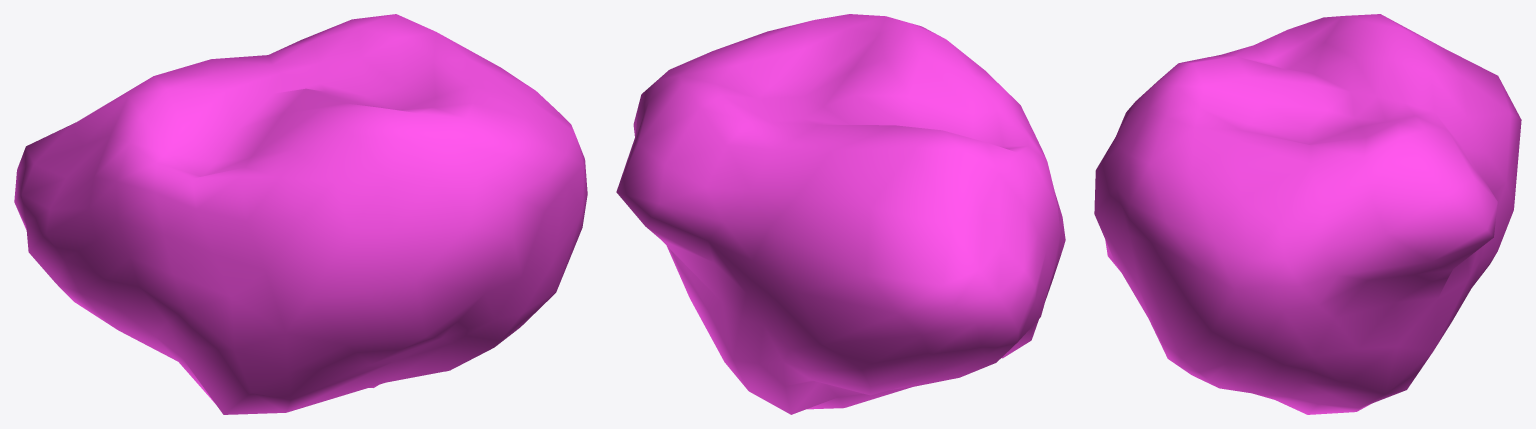
File: Nube.fbx
3 renders of one model, left to right at view 1: azimuth 30°, elevation 25°; view 2: azimuth 150°, elevation 25°; view 3: azimuth 270°, elevation 25°, orthographic. The views are drawn at different scales.
Visible parts, largest first — view 1: Nube; view 2: Nube; view 3: Nube.
Part boxes in pixels (x1,y1,x2,y2): Nube: [14, 14, 587, 414]; Nube: [616, 14, 1065, 414]; Nube: [1094, 14, 1521, 414].
Size of the model in its own units: 3395 by 2416 by 2808.
